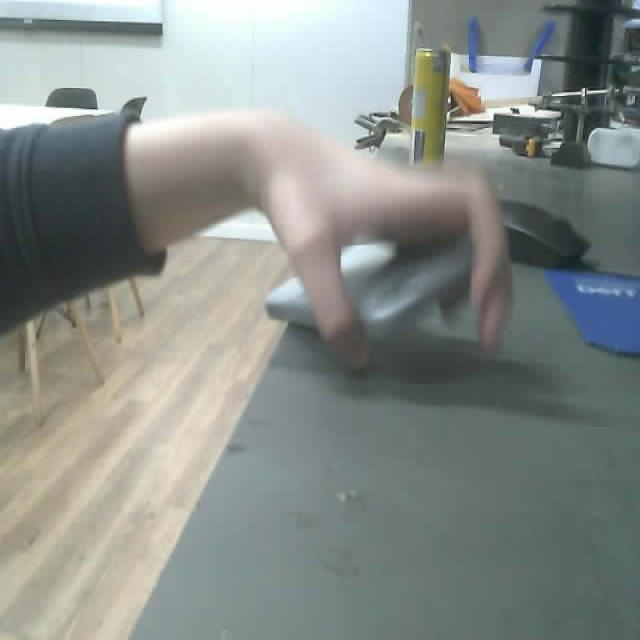phone: (266, 232, 472, 340)
